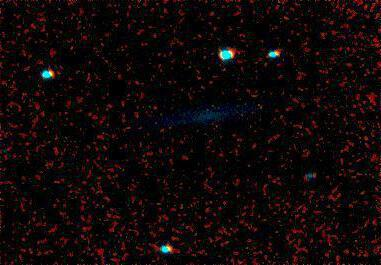star: (138, 109, 168, 139)
